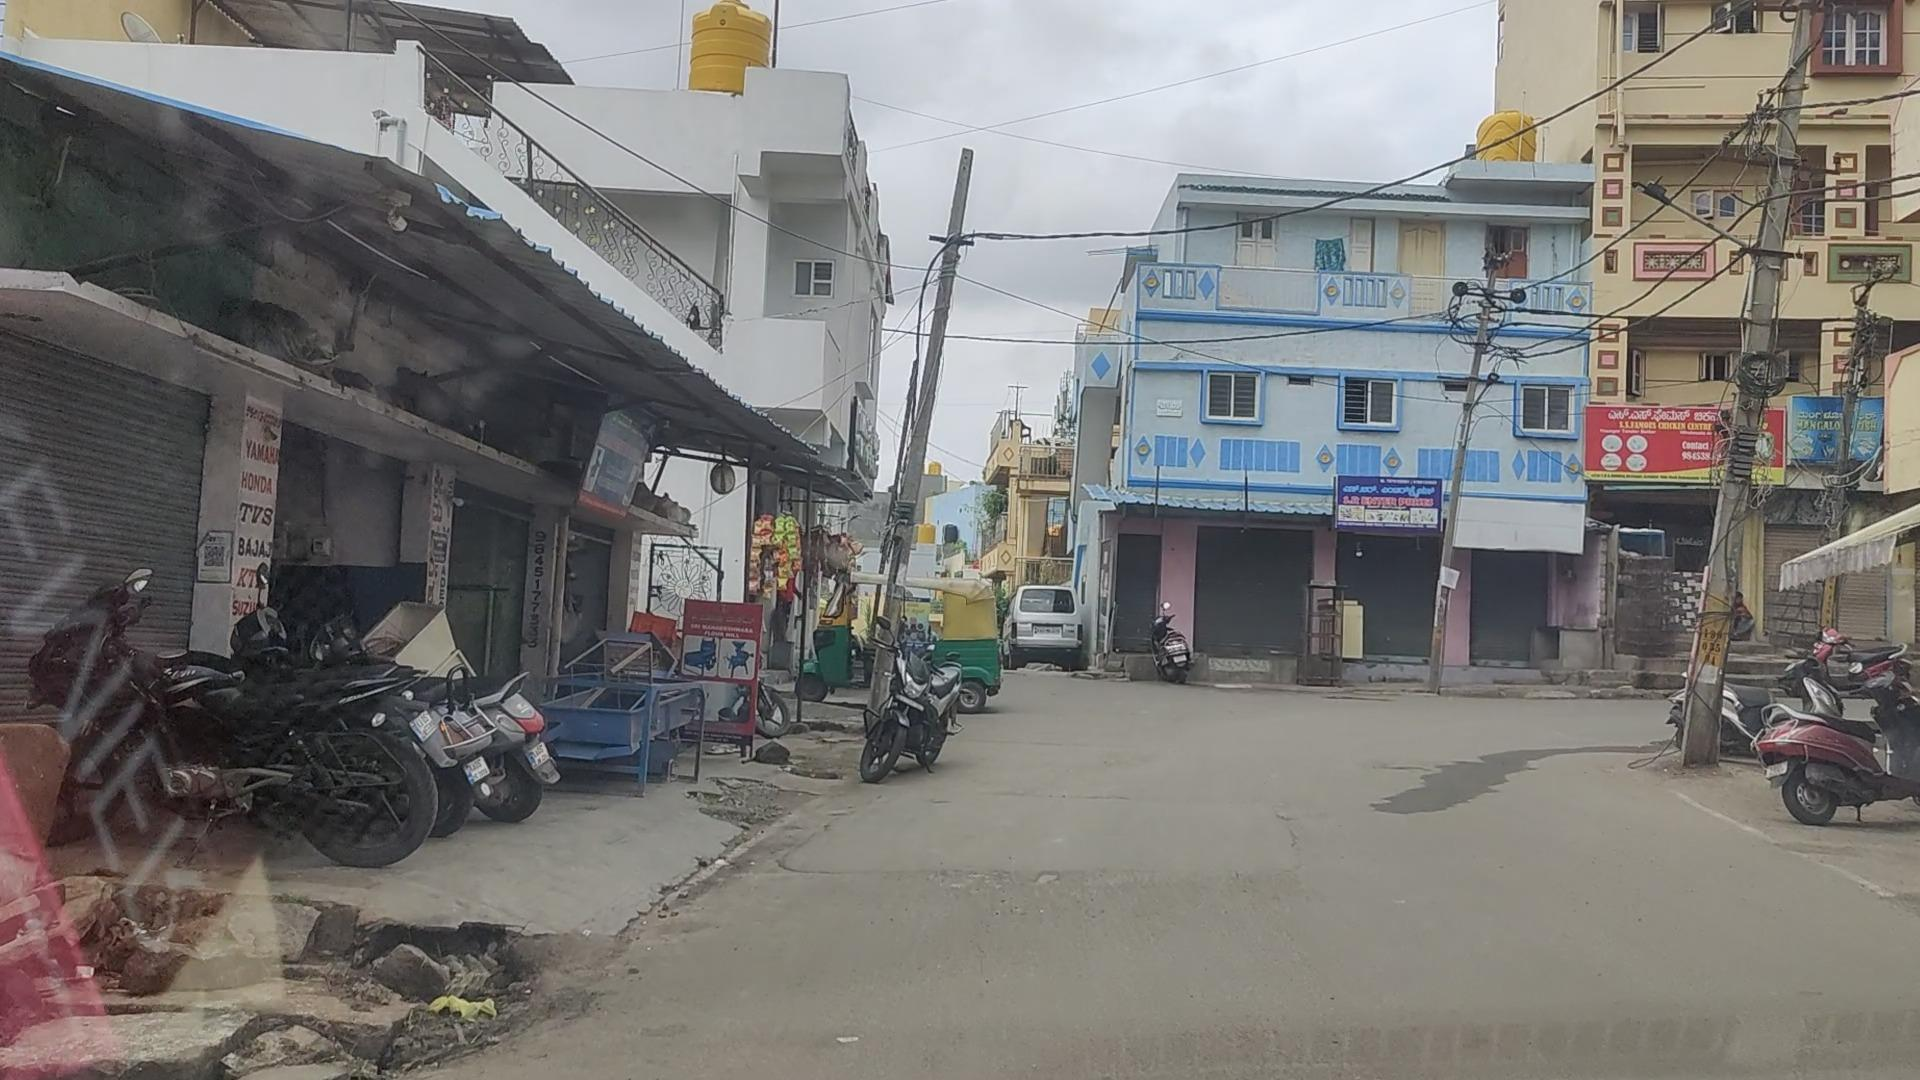RoadDamages: (836, 840, 1067, 909), (1250, 803, 1308, 877)
